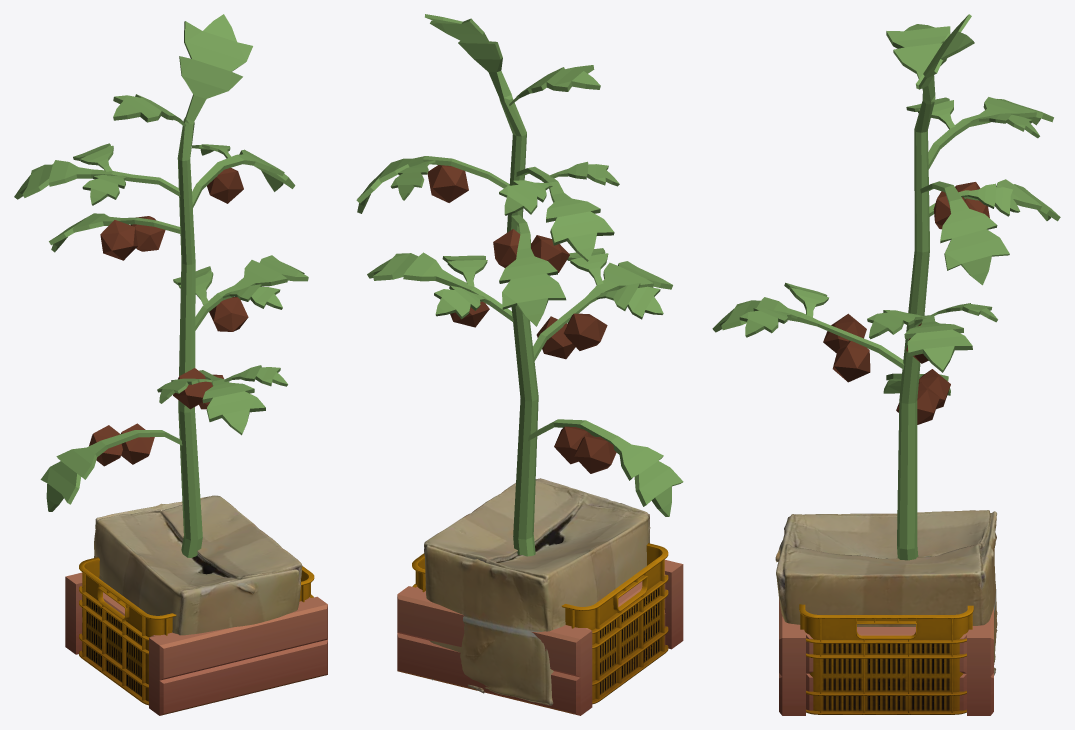
File: farm.glb
3 views of the same model, side by side, from view 1: azimuth 30°, elevation 25°; view 2: azimuth 150°, elevation 25°; view 3: azimuth 270°, elevation 25° (orthographic). The views are drawn at different scales.
Parts seen in each view (by area): view 1: Tomato_4, cardboard_box_01, crate_tomatoes, plastic_crate_02; view 2: Tomato_4, cardboard_box_01, crate_tomatoes, plastic_crate_02; view 3: Tomato_4, cardboard_box_01, plastic_crate_02, crate_tomatoes.
Boxes of the visible parts, x1,y1,x2,y2 form: Tomato_4: [14, 14, 308, 557]; cardboard_box_01: [94, 495, 302, 635]; crate_tomatoes: [65, 572, 327, 715]; plastic_crate_02: [79, 557, 314, 705]; Tomato_4: [356, 14, 683, 556]; cardboard_box_01: [424, 478, 650, 705]; crate_tomatoes: [397, 559, 683, 715]; plastic_crate_02: [412, 543, 668, 704]; Tomato_4: [712, 14, 1060, 560]; cardboard_box_01: [775, 510, 997, 675]; plastic_crate_02: [799, 604, 973, 714]; crate_tomatoes: [779, 598, 993, 715].
Bounding box in the file's own units: 0.7932 × 1.72 × 0.81.
Materials: 5 (3 with a texture image).
